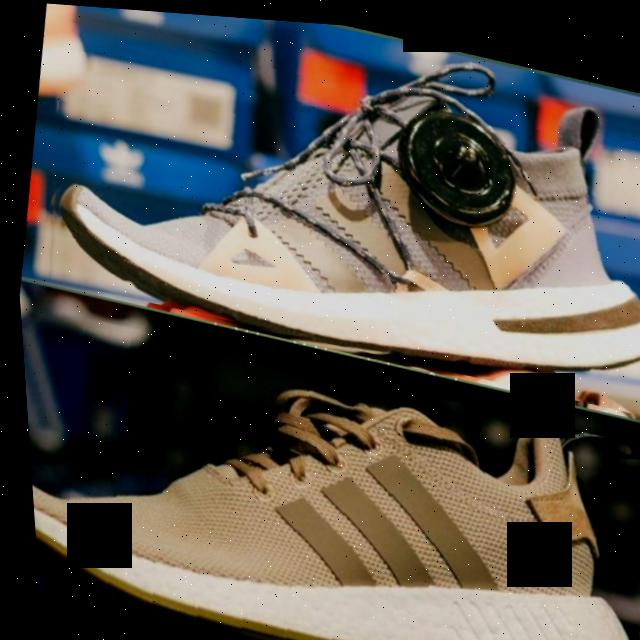shoe: (20, 1, 640, 407), (16, 302, 640, 640)
